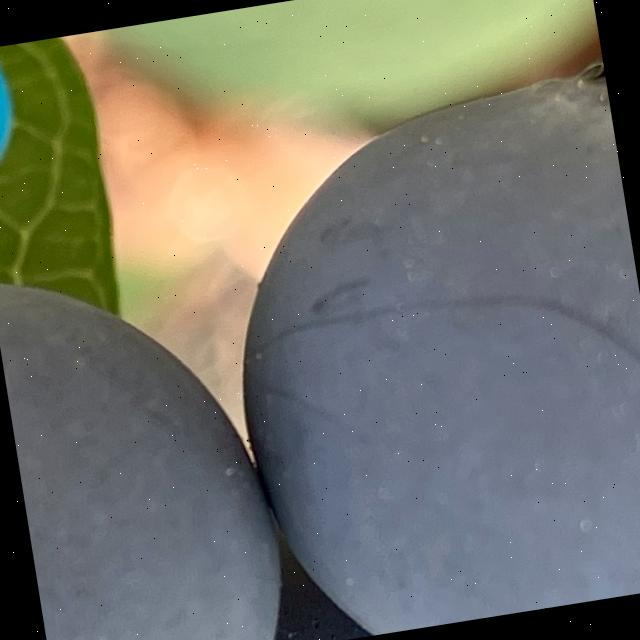Blueberries: (196, 64, 640, 640), (0, 222, 295, 640)
